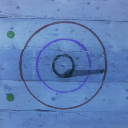Axe Tip: (57, 75, 68, 77)
